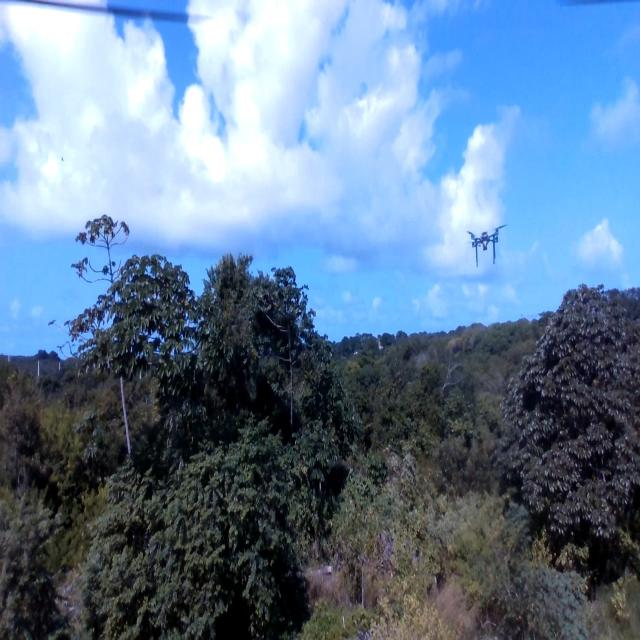-uav-: (462, 212, 510, 277)
